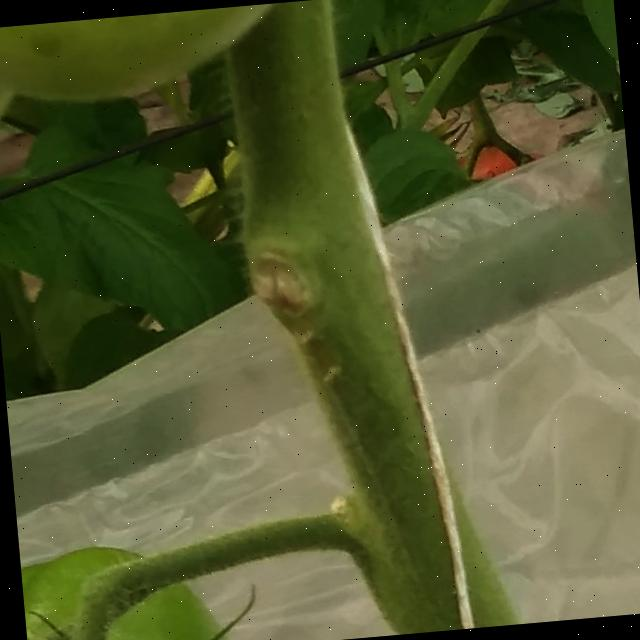tomato: (0, 0, 622, 278)
